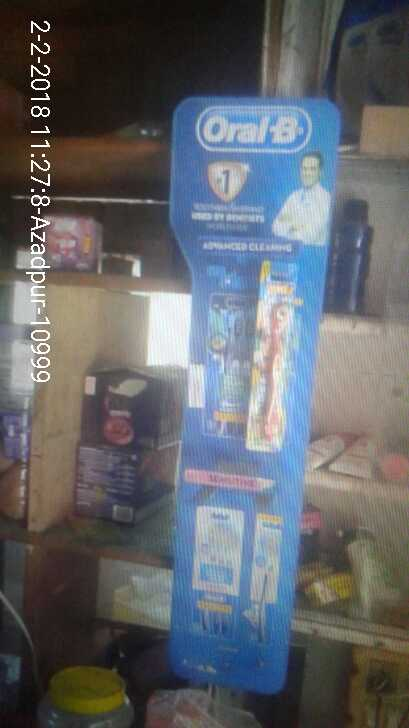oralb: (241, 285, 295, 463)
